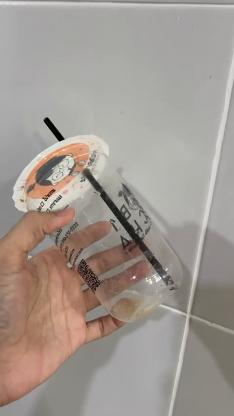Plastic Cup: (12, 134, 186, 324)
